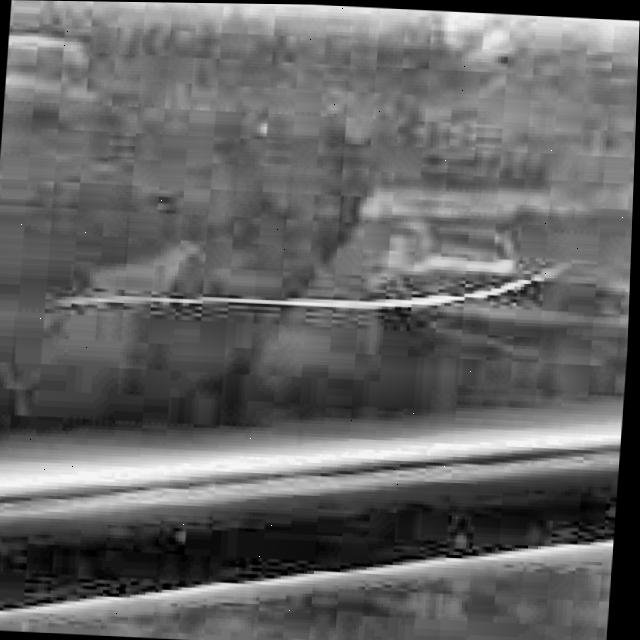door_scratch: (63, 250, 601, 337)
